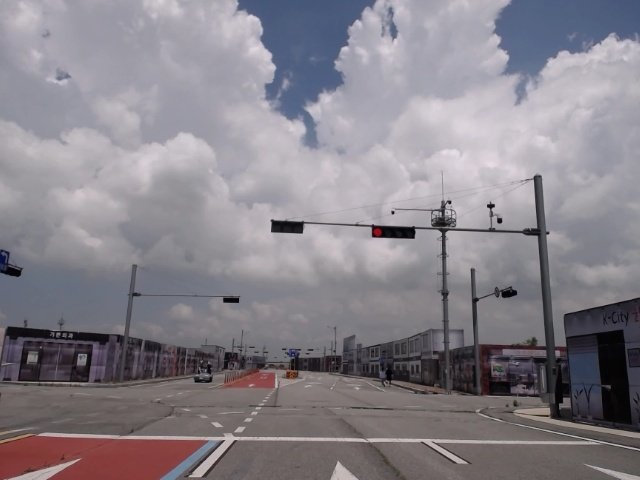red_4: (372, 227, 415, 238)
